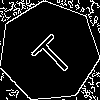T: (24, 26, 77, 80)
